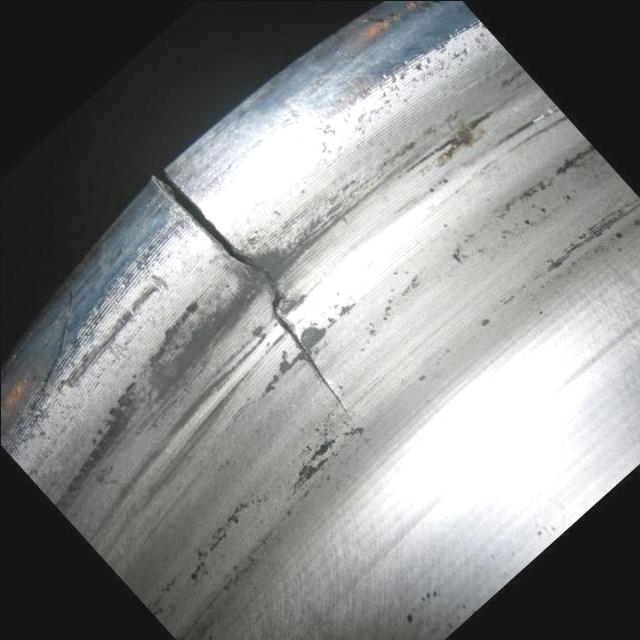defect: (147, 166, 389, 473)
